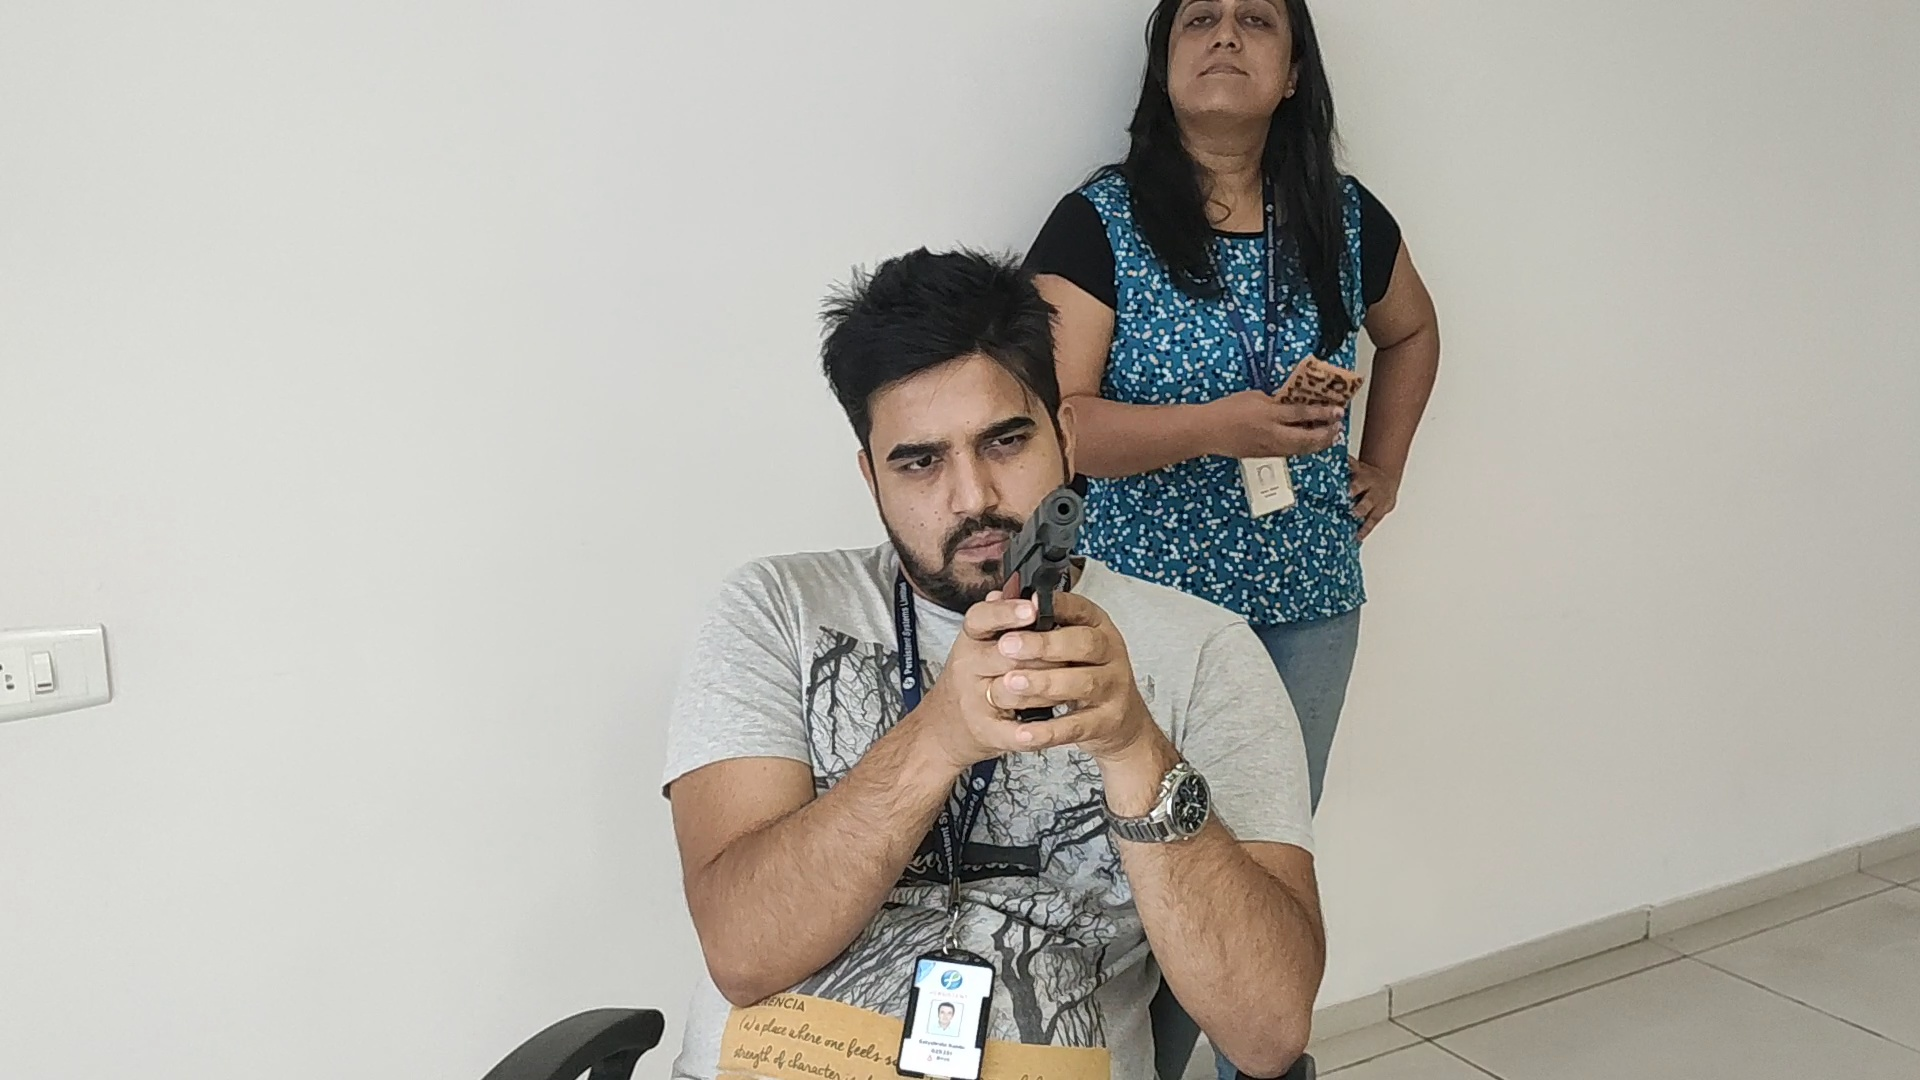gun: (1004, 484, 1083, 589)
